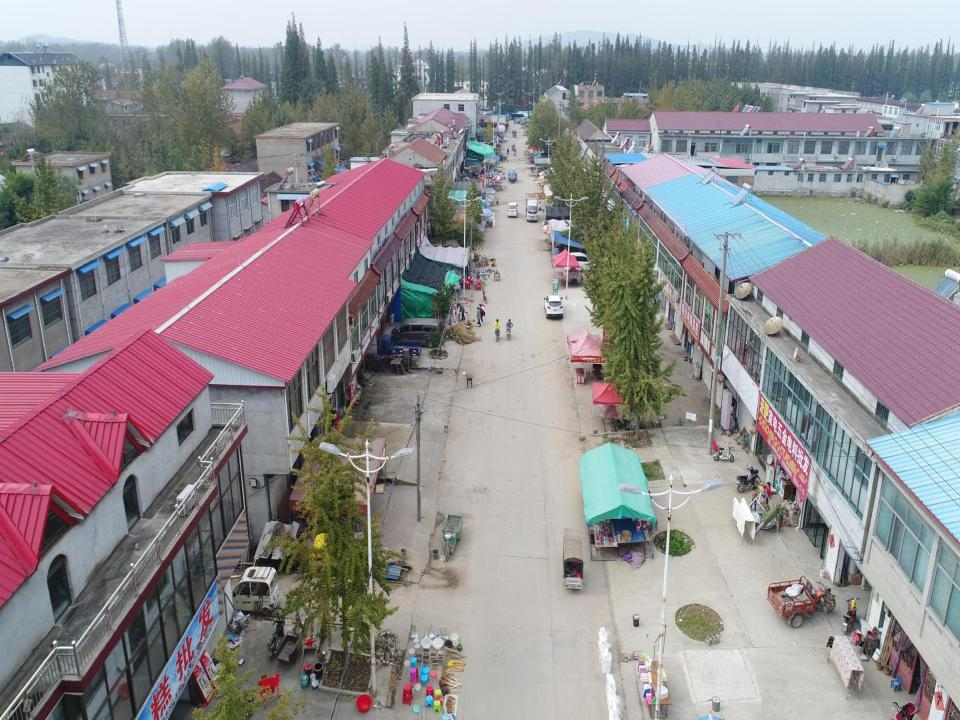car: (564, 250, 598, 278), (542, 294, 565, 319), (506, 202, 520, 218), (515, 118, 520, 124)
truck: (374, 332, 422, 360)
van: (390, 319, 441, 349)
